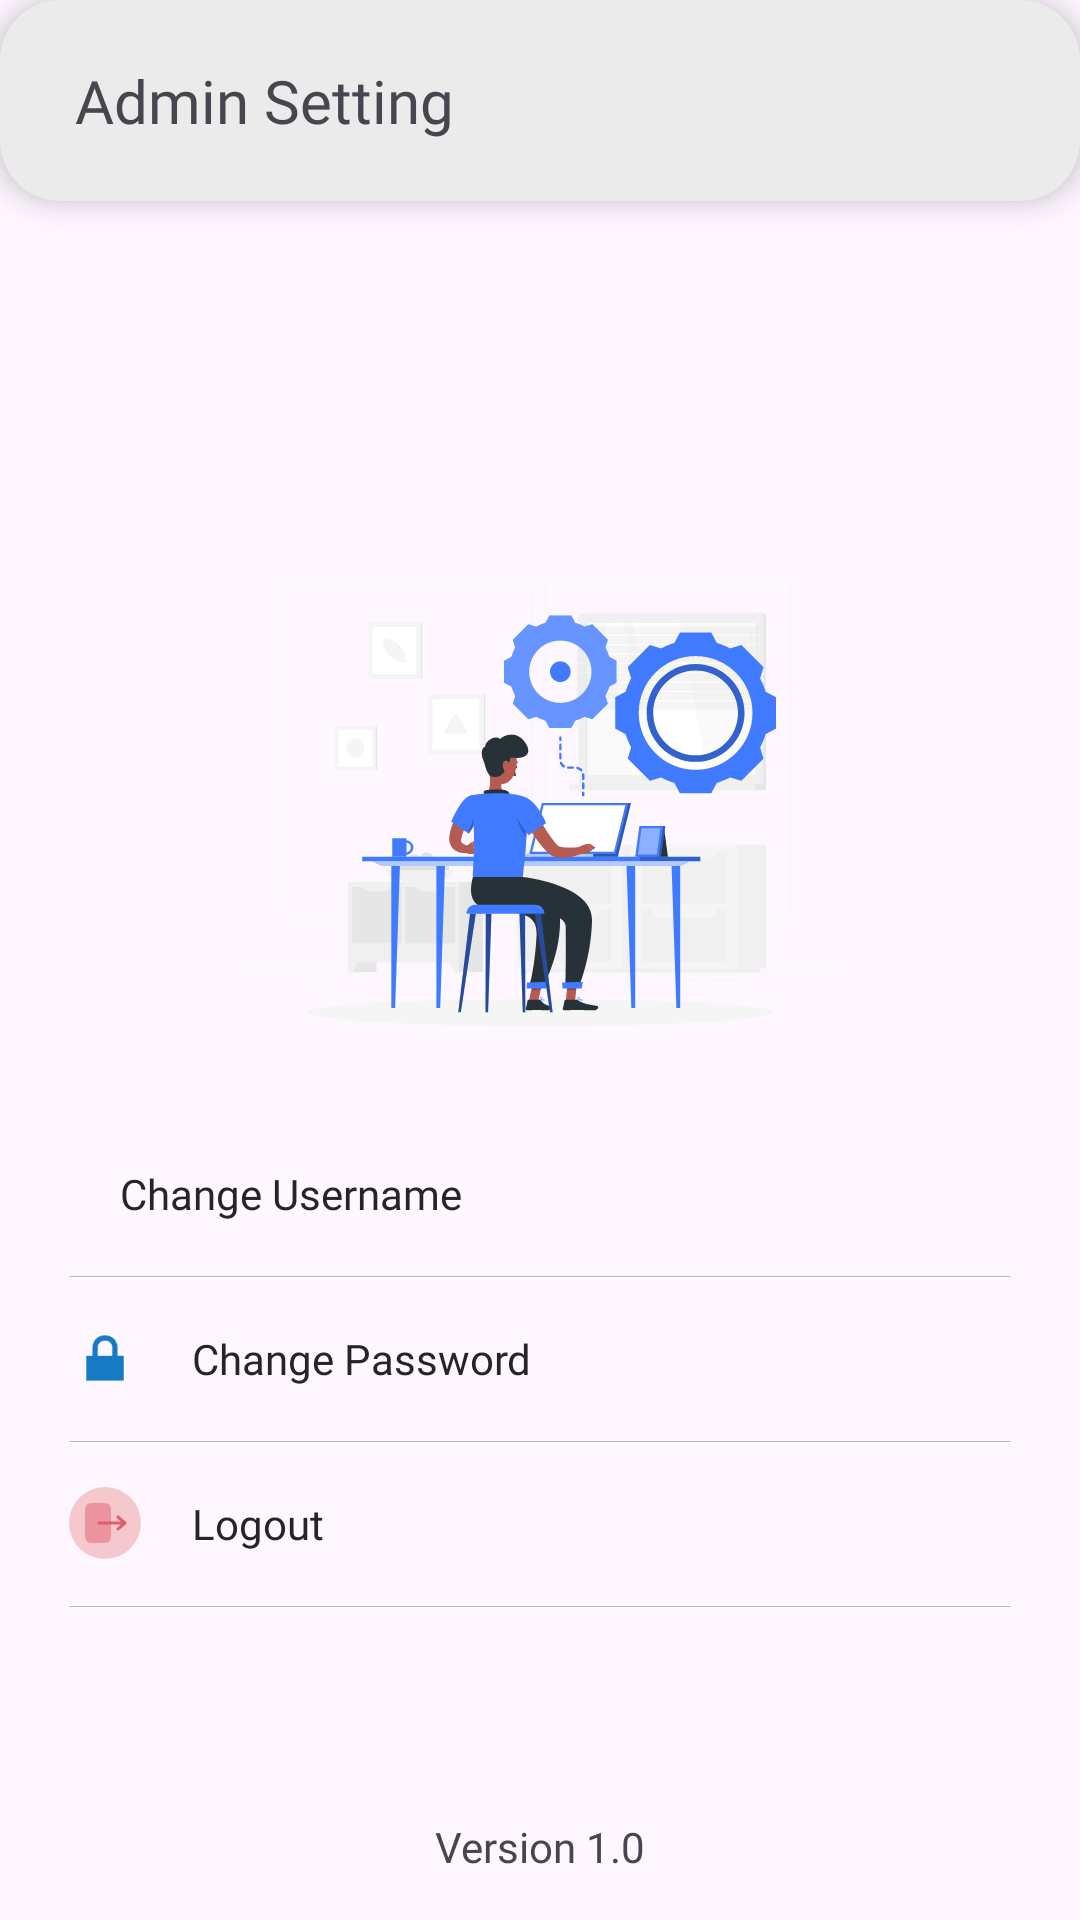

Icons on this 1080*1920 Android screen, each with its box as (x1, y1, x2, y2):
lock: (86, 1335, 124, 1381)
login: (69, 1487, 141, 1559)
